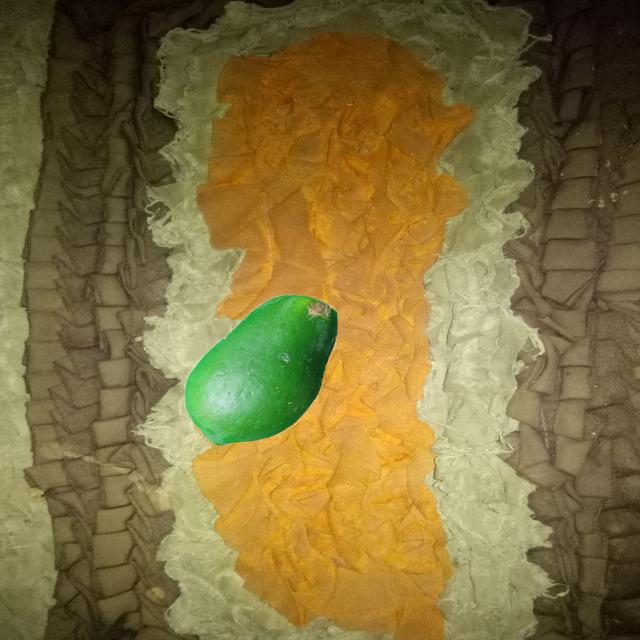Pepaya unrippen: (181, 292, 342, 448)
